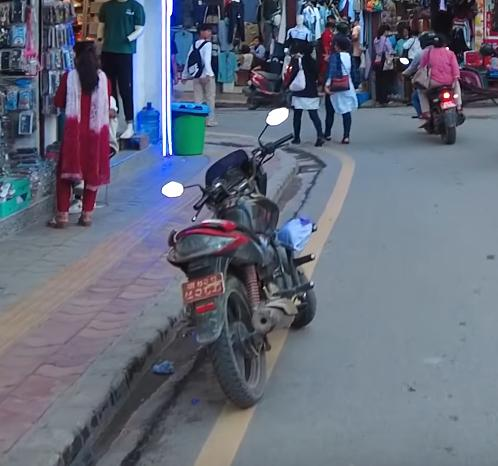bike: (160, 102, 320, 409)
